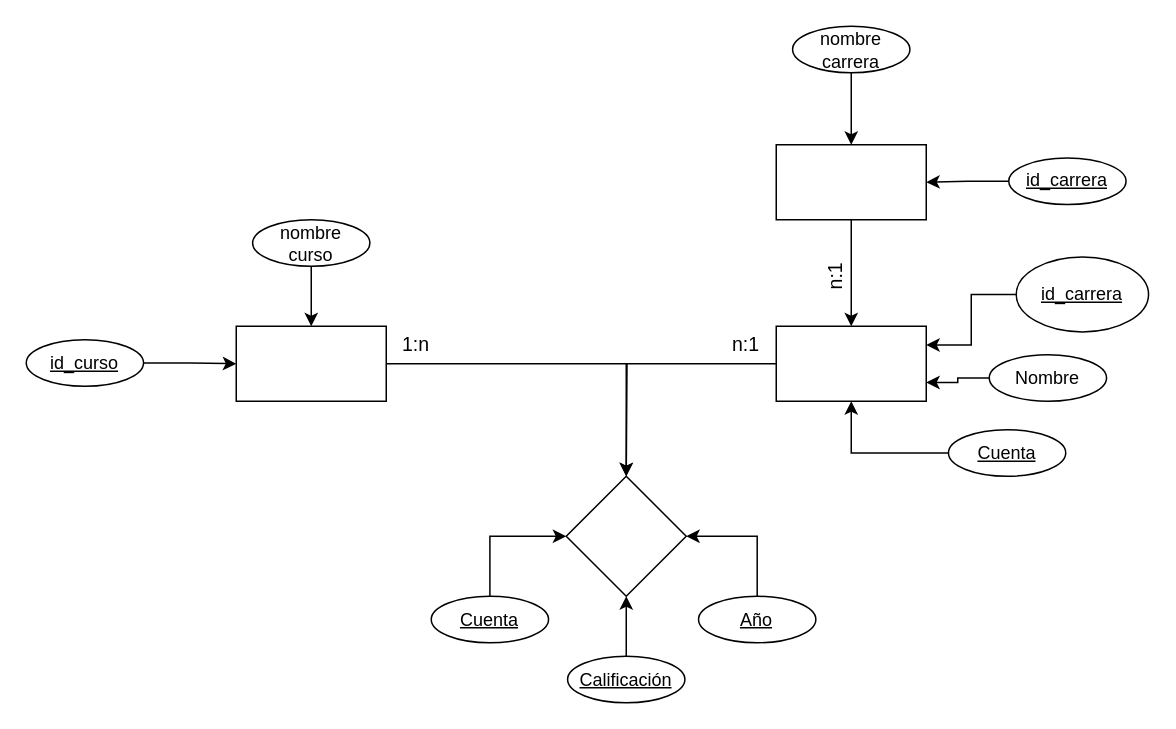
The diagram is 1176 pixels wide and 729 high, and some of its shapes have lost their labels. Each missing label, with the centre of its shape:
"Alumnos" belongs at point (850, 363).
"Califiaciones" belongs at point (625, 535).
"Carreras" belongs at point (850, 181).
"Cursos" belongs at point (310, 363).
